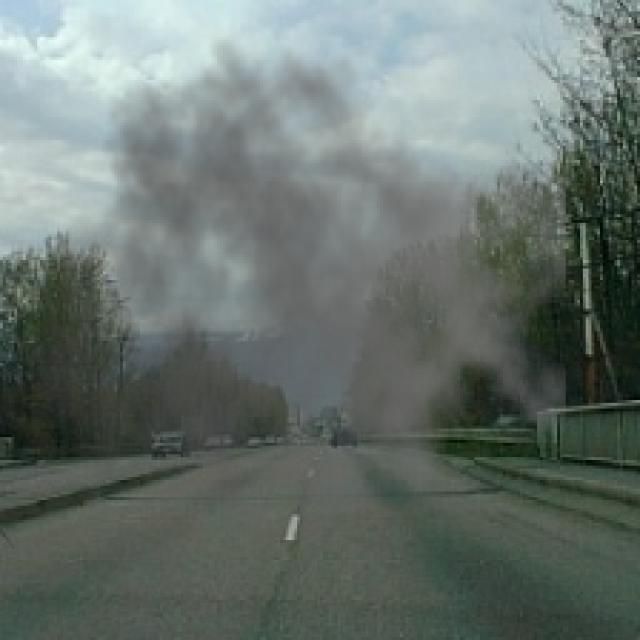Smoke: (26, 28, 566, 583)
